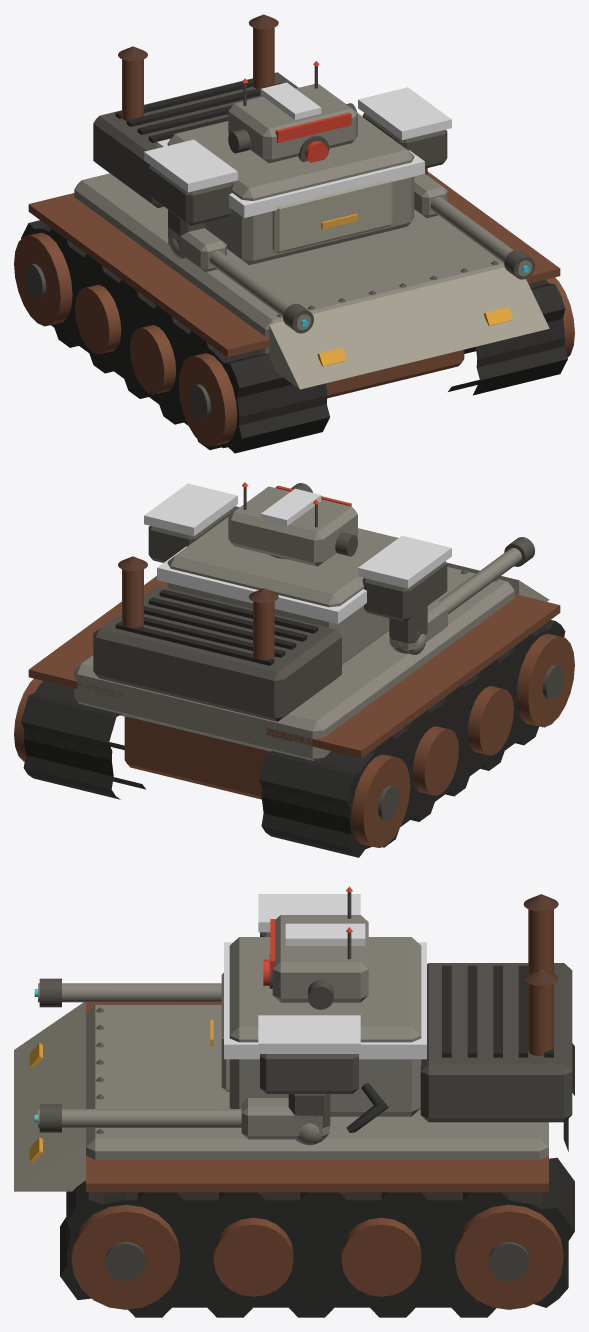
3 renders of one model, top to bottom at view 1: azimuth 30°, elevation 25°; view 2: azimuth 150°, elevation 25°; view 3: azimuth 270°, elevation 25°, orthographic. The views are drawn at different scales.
Parts seen in each view (by area): view 1: dweller_robot_guard; view 2: dweller_robot_guard; view 3: dweller_robot_guard.
Part boxes in pixels (<box>): dweller_robot_guard: <box>14,14,574,453</box>; dweller_robot_guard: <box>14,482,574,857</box>; dweller_robot_guard: <box>14,886,574,1317</box>.
Bounding box in the file's own units: 3 × 2.2 × 3.51.
